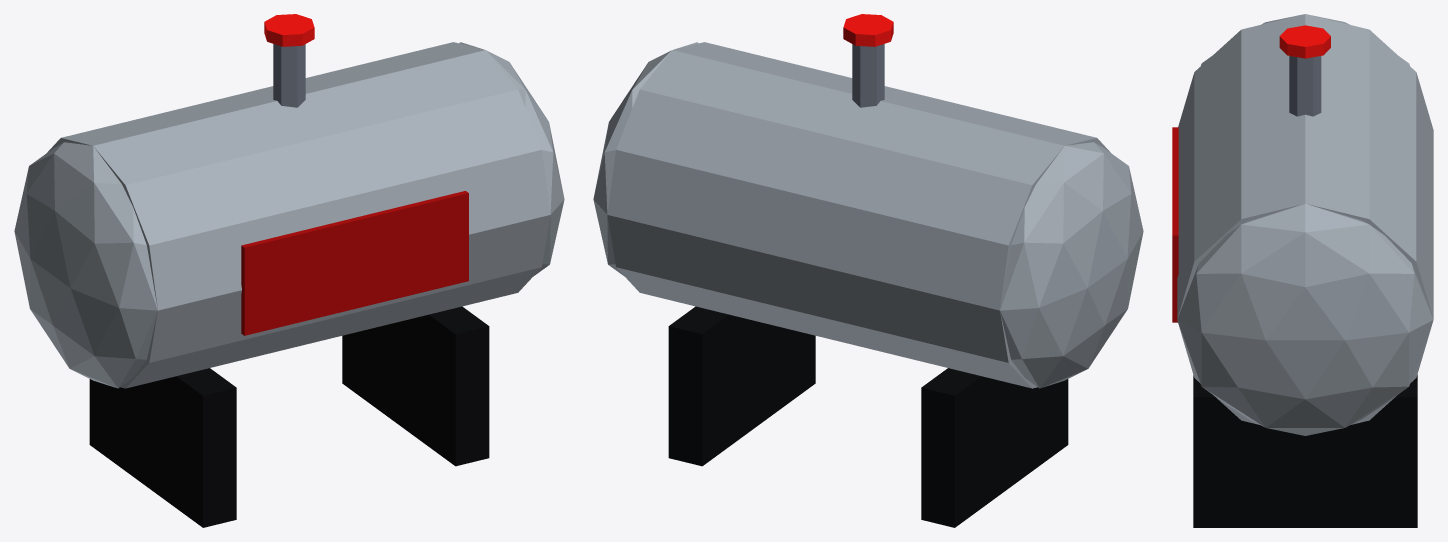
The model's file is fuel_tank.obj.
3 renders of one model, left to right at view 1: azimuth 30°, elevation 25°; view 2: azimuth 150°, elevation 25°; view 3: azimuth 270°, elevation 25°, orthographic.
Parts seen in each view (by area): view 1: fuel_tank; view 2: fuel_tank; view 3: fuel_tank.
Part boxes in pixels (x1,y1,x2,y2): fuel_tank: (14, 14, 564, 527); fuel_tank: (593, 14, 1143, 527); fuel_tank: (1172, 14, 1433, 527).
Bounding box in the file's own units: 1.7 × 1.46 × 0.815.
